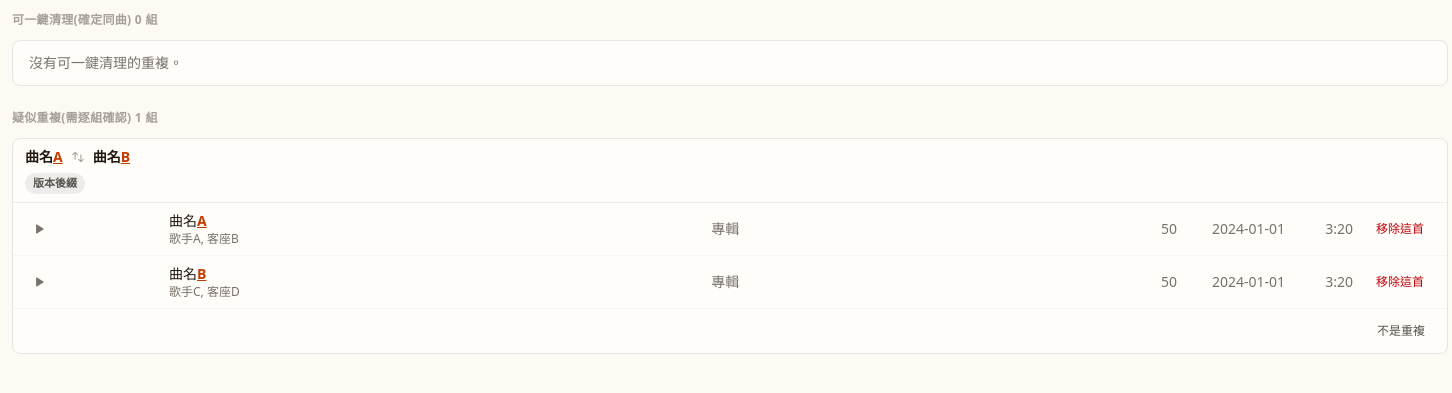
CleanupView 失敗回饋（mutation onError 不誤報成功） › test_onError_dismiss失敗顯錯（S4）
Click the button "不是重複" at coordinates (1401, 330), box top-left (1367, 316), bottom-right (1435, 344)
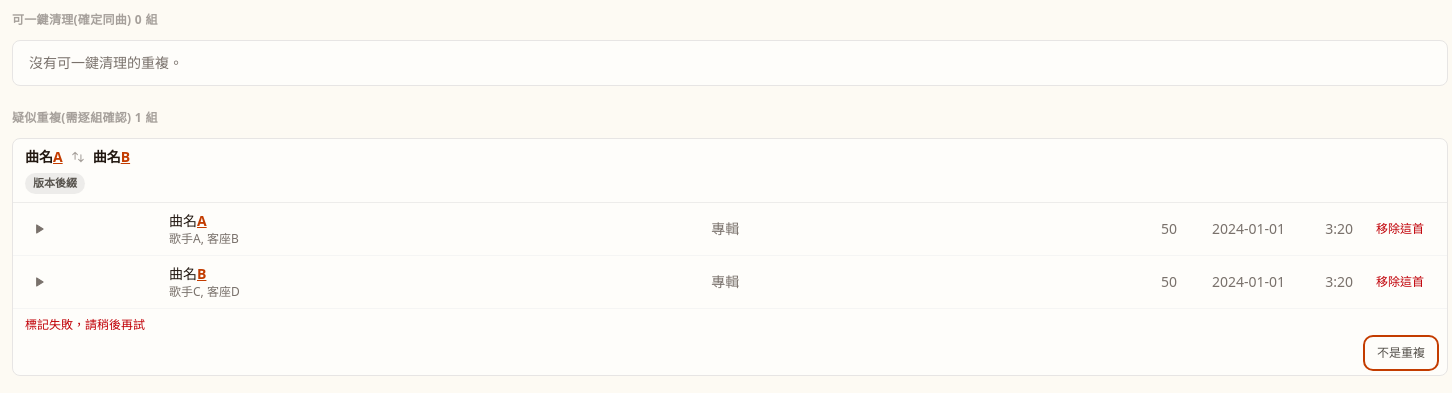
Check: the element named "不是重複" is shown, box top-left (12, 138), bottom-right (1448, 376)
Check: the message shows "失敗", box top-left (25, 316), bottom-right (145, 332)
